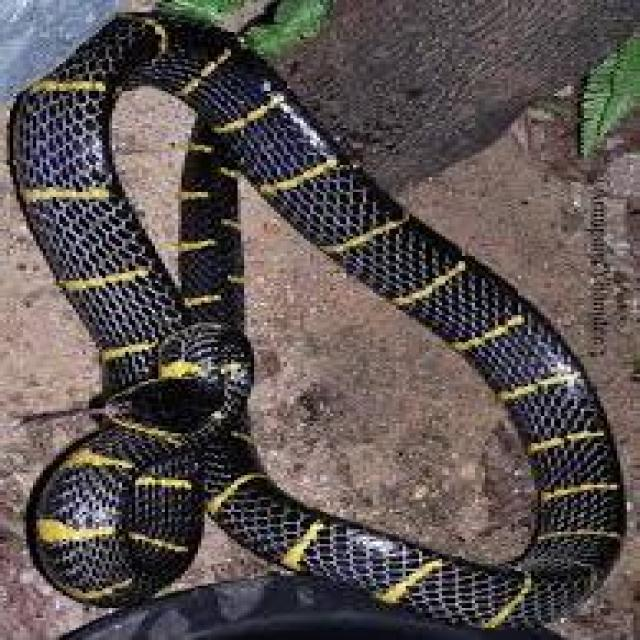Venomous: (105, 347, 266, 489)
